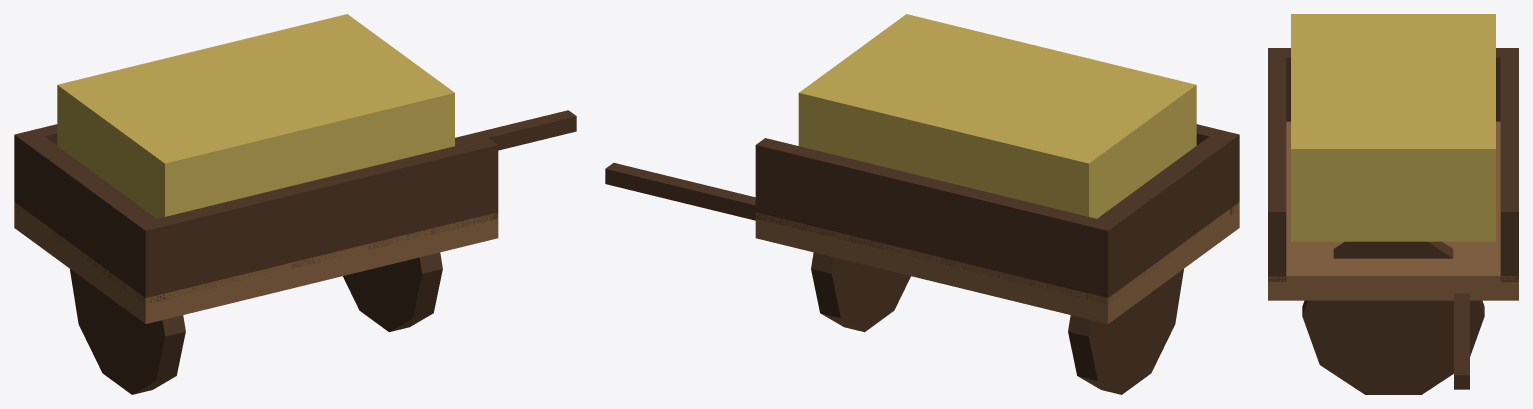
Rendered from prop_cart.glb.
The picture shows the model from 3 angles, left to right: view 1: azimuth 30°, elevation 25°; view 2: azimuth 150°, elevation 25°; view 3: azimuth 270°, elevation 25°; orthographic projection. The views are drawn at different scales.
Parts seen in each view (by area): view 1: prop_cart; view 2: prop_cart; view 3: prop_cart.
Part boxes in pixels (x1,y1,x2,y2): prop_cart: (14, 14, 576, 394); prop_cart: (605, 14, 1239, 394); prop_cart: (1268, 14, 1518, 394).
Bounding box in the file's own units: 2.55 × 1.21 × 1.1.
